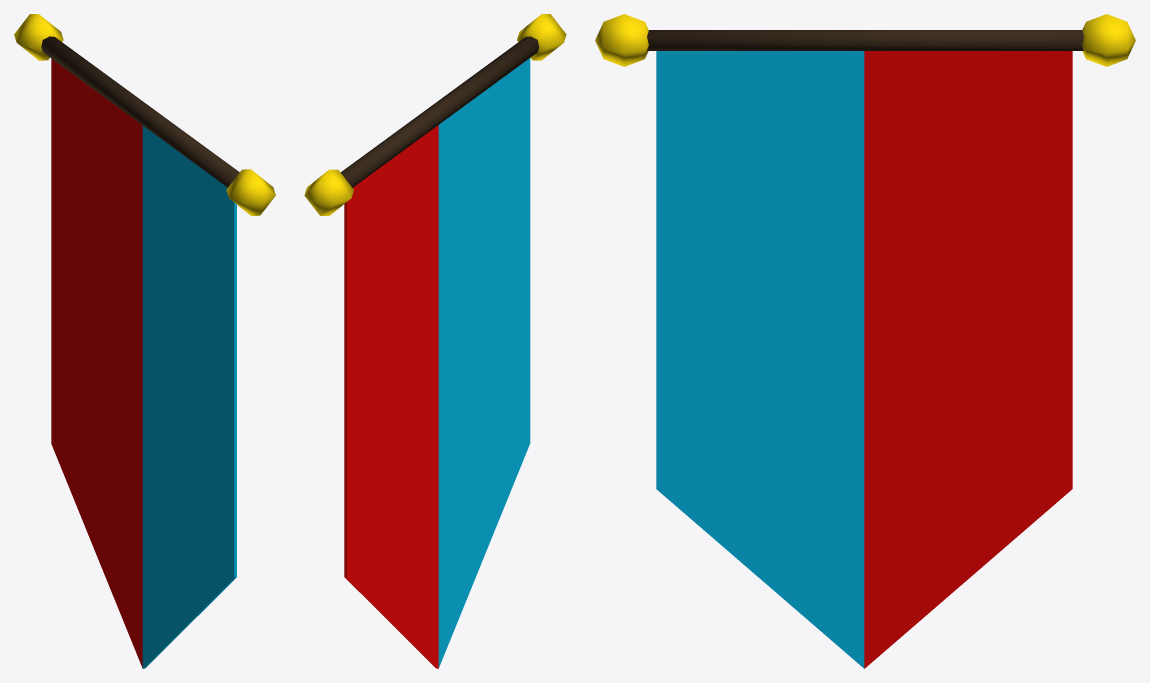
The model's file is Flag_4.fbx.
3 renders of one model, left to right at view 1: azimuth 30°, elevation 25°; view 2: azimuth 150°, elevation 25°; view 3: azimuth 270°, elevation 25°, orthographic. The views are drawn at different scales.
Parts seen in each view (by area): view 1: Flag_4; view 2: Flag_4; view 3: Flag_4.
Boxes of the visible parts, x1,y1,x2,y2 form: Flag_4: [14, 14, 275, 668]; Flag_4: [304, 14, 566, 668]; Flag_4: [595, 14, 1135, 668].
Size of the model in its own units: 0.1188 by 1.47 by 1.1.
